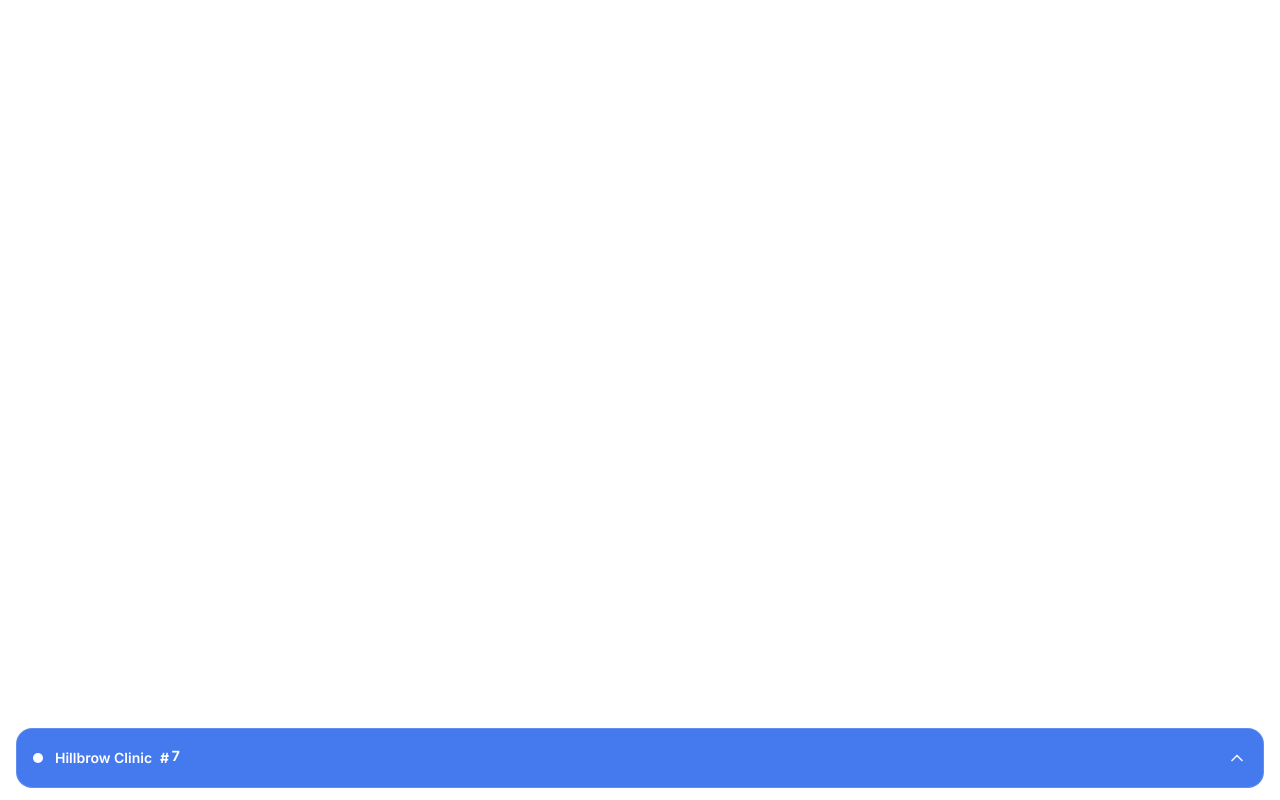
FlowBar › expands and collapses via click
The width and height of the screenshot is (1280, 800).
Click the element with test id "flow-bar".
click(640, 758)  # box [16,728,1264,788]
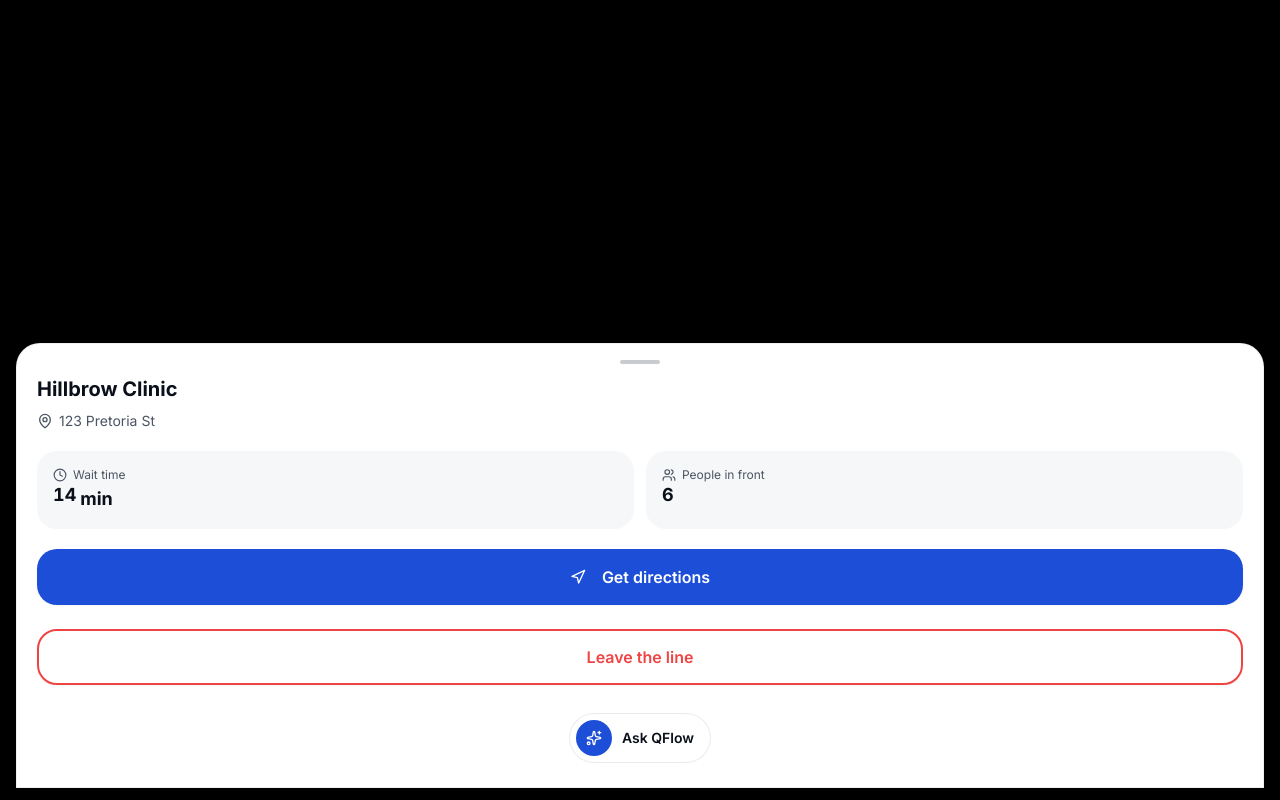
expect the dialog with test id "flow-bar-expanded" is shown: met, box [16,342,1264,788]
expect the element with test id "join-queue-panel" is shown: met, box [37,451,1243,685]
expect the button with test id "ask-qflow-toggle" is shown: met, box [569,713,711,763]
Click the button named "close queue details".
click(640, 48)  # box [0,0,1279,799]
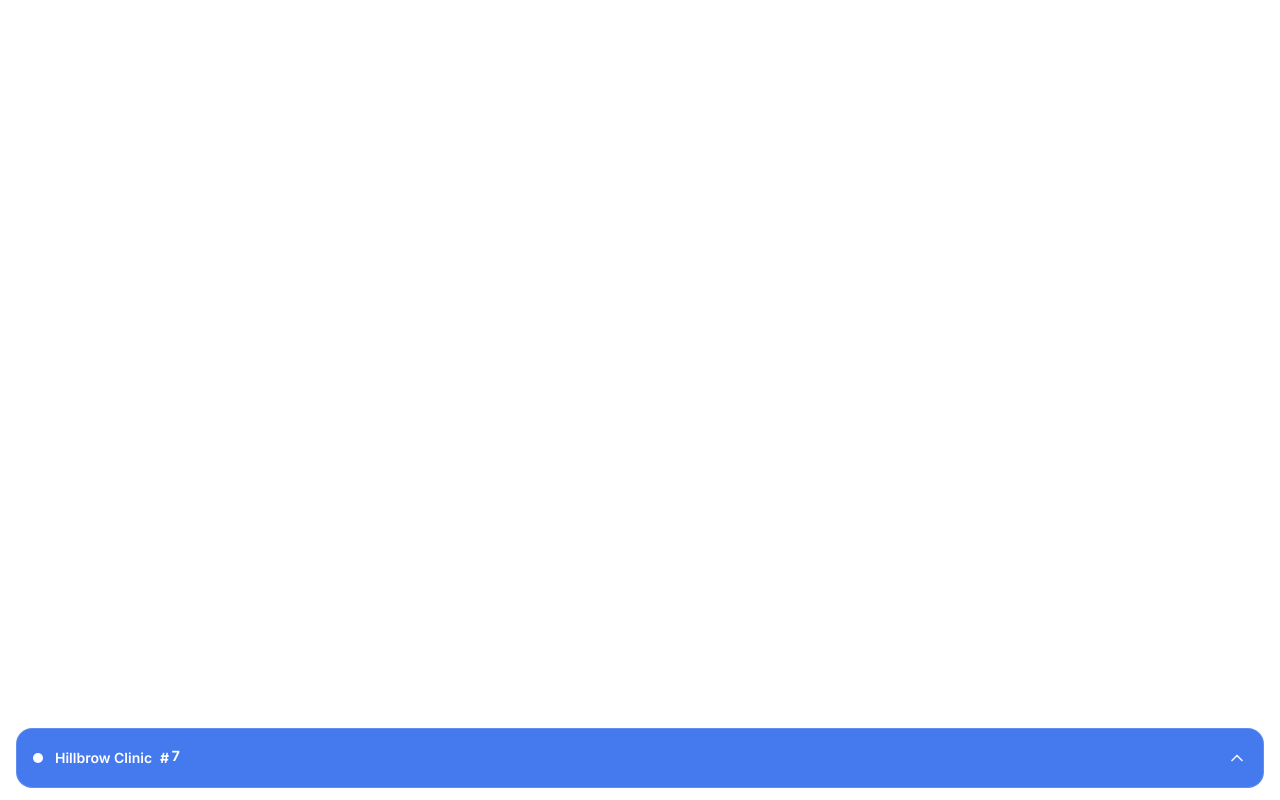
expect the element with test id "flow-bar" is shown: met, box [16,728,1264,788]
expect the dialog with test id "flow-bar-expanded" is gone: met
